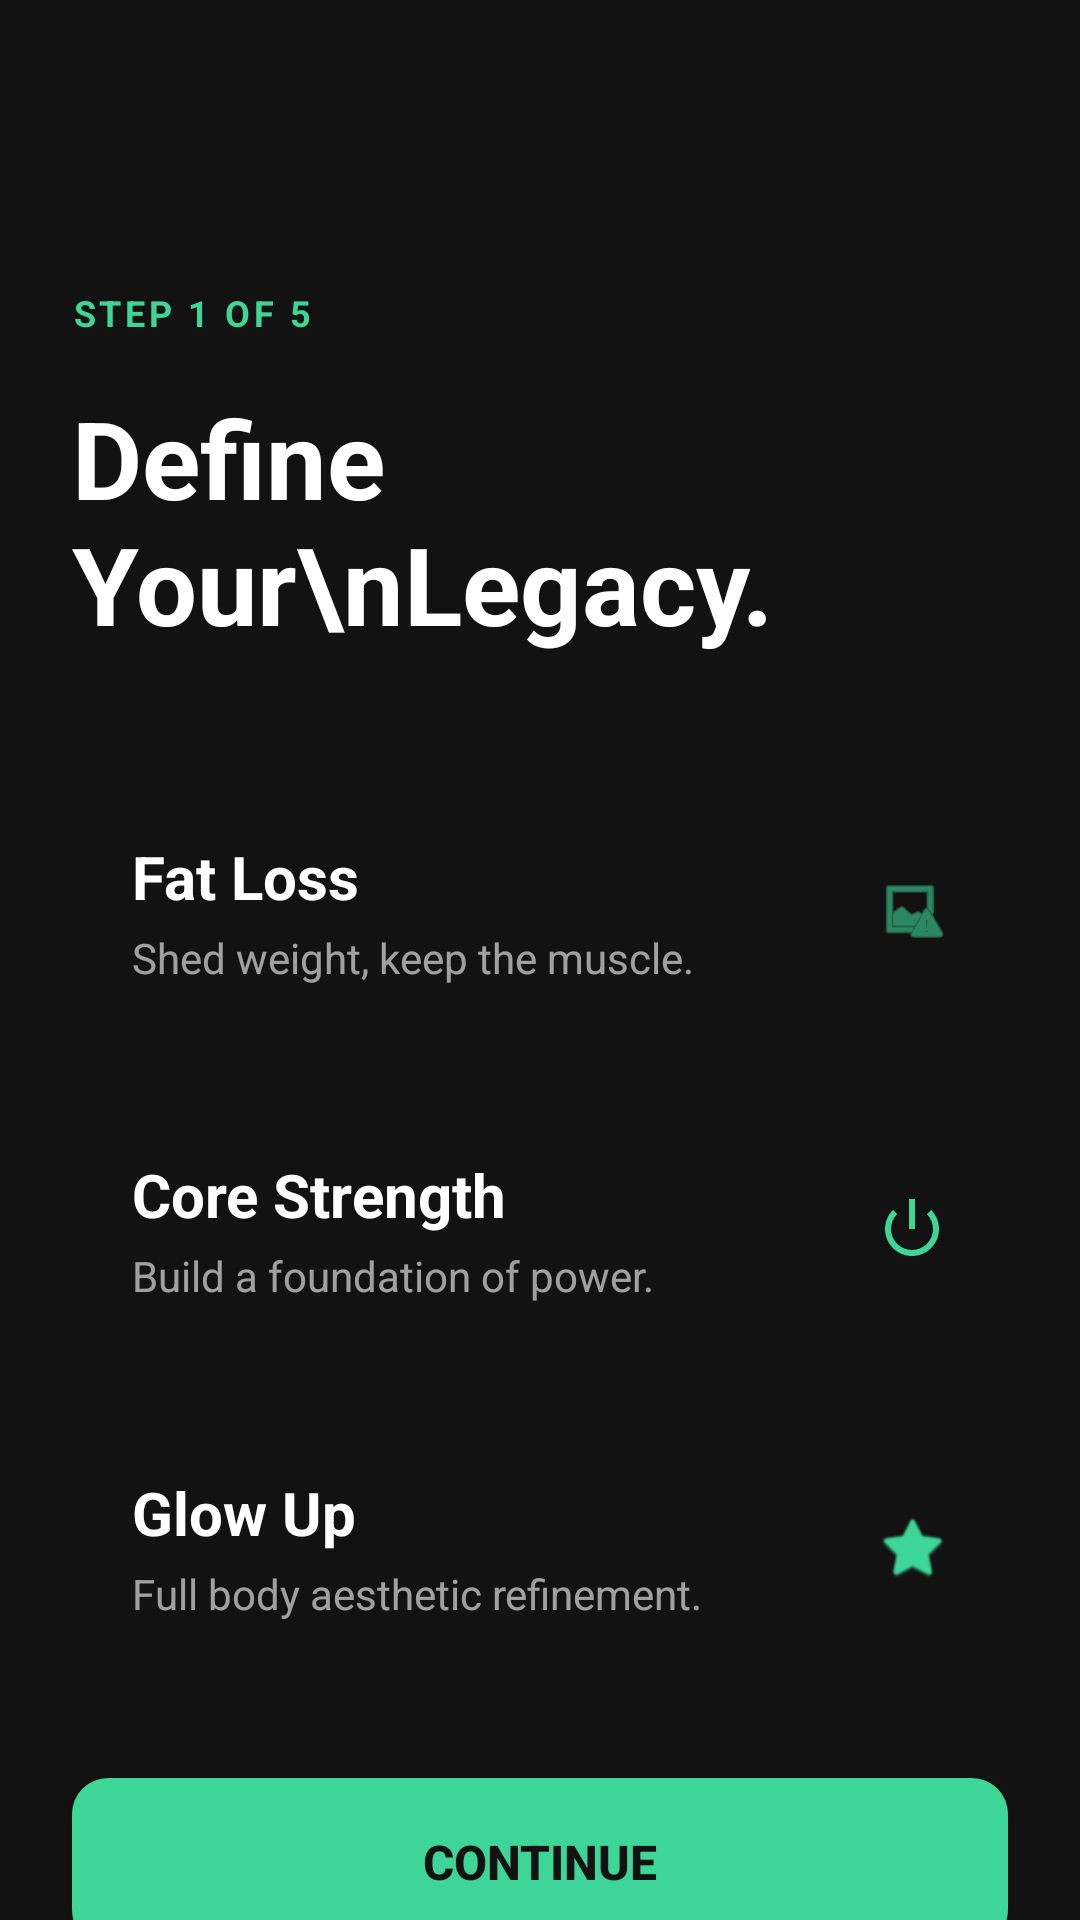

Locate icon controls on the screen. Image size 1080w x 1920h, boxes as (x1, y1, x2, y2).
lock power off: (885, 1199, 939, 1256)
star on: (883, 1518, 943, 1577)
